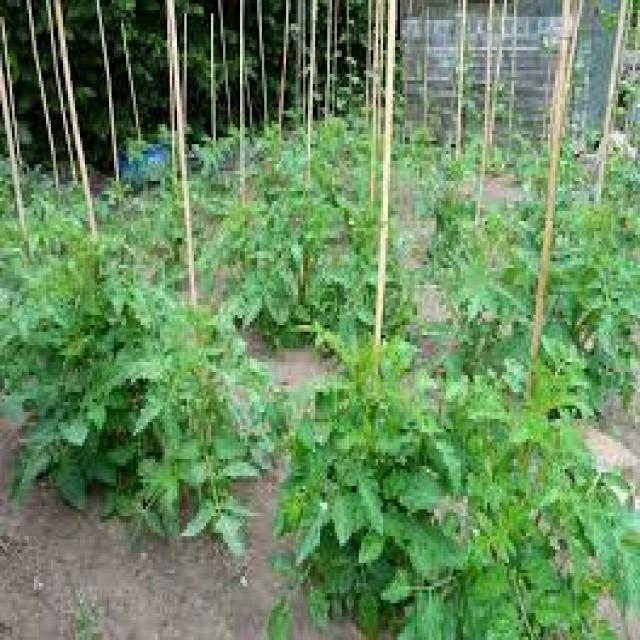organic waste: (276, 369, 444, 630), (439, 375, 601, 637), (141, 315, 269, 543), (24, 265, 143, 479), (242, 191, 318, 335), (558, 245, 638, 372), (451, 252, 519, 376), (580, 472, 638, 590), (315, 244, 373, 362), (0, 218, 41, 375), (536, 332, 586, 412), (555, 194, 633, 242), (429, 188, 470, 261), (492, 194, 538, 252), (315, 110, 347, 138)
